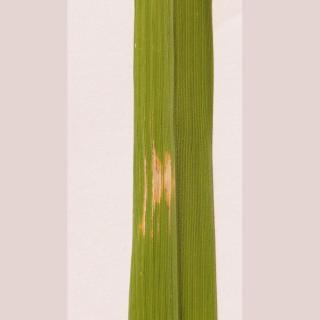Hawar-Daun: (132, 131, 186, 245)
